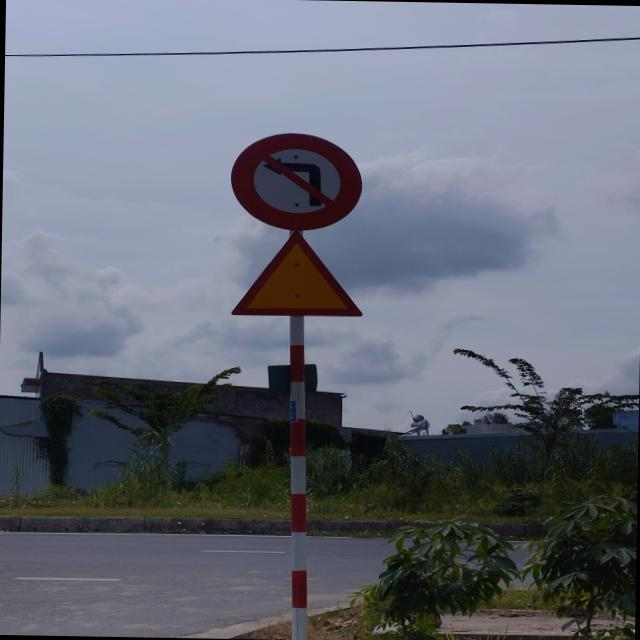Cam_Re_Trai: (228, 132, 366, 232)
Gioi_Han_Toc_Do_25: (230, 229, 363, 317)
